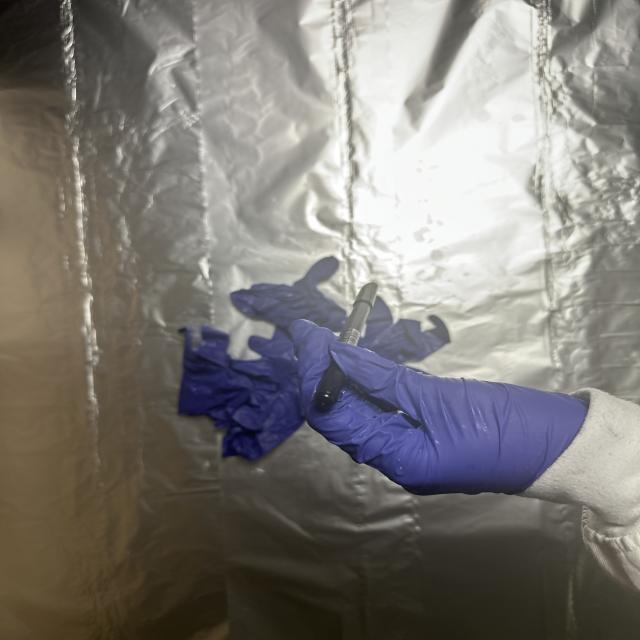gloves_contaminated: (290, 320, 586, 495)
